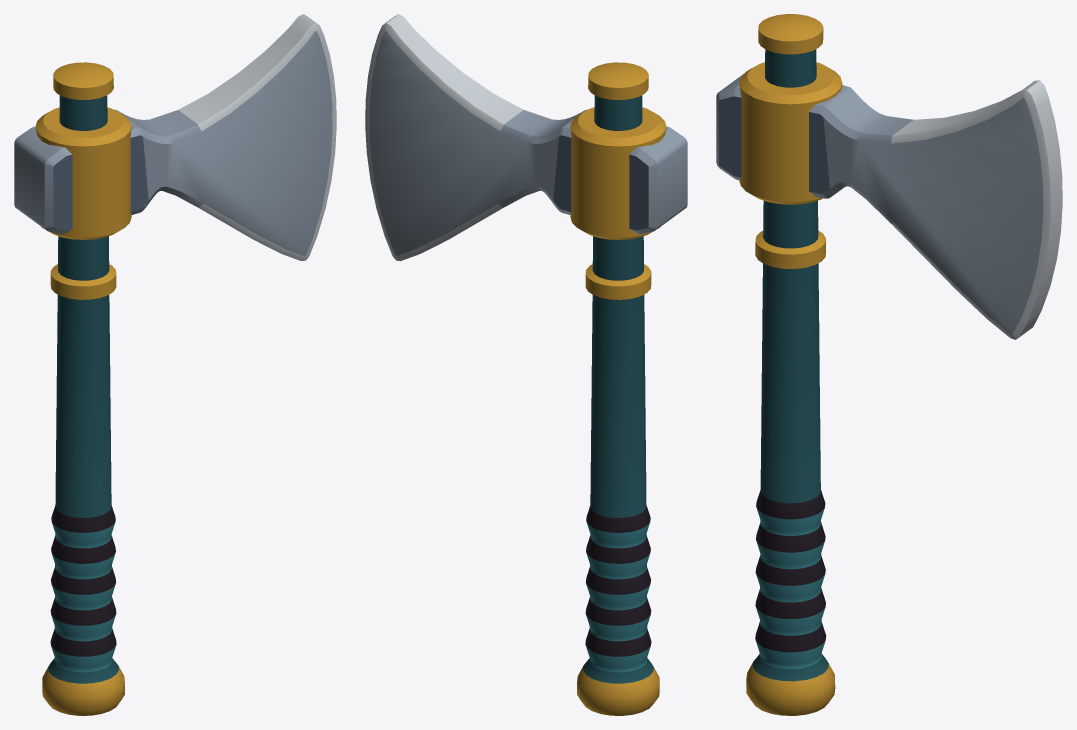
Rendered from Axe_06.glb.
3 views of the same model, side by side, from view 1: azimuth 30°, elevation 25°; view 2: azimuth 150°, elevation 25°; view 3: azimuth 330°, elevation 25° (orthographic). The views are drawn at different scales.
Parts seen in each view (by area): view 1: Axe_06; view 2: Axe_06; view 3: Axe_06.
Boxes of the visible parts, x1,y1,x2,y2 form: Axe_06: (14, 14, 336, 715); Axe_06: (365, 14, 687, 715); Axe_06: (716, 14, 1062, 715).
Size of the model in its own units: 2.35 by 4.69 by 0.648.
